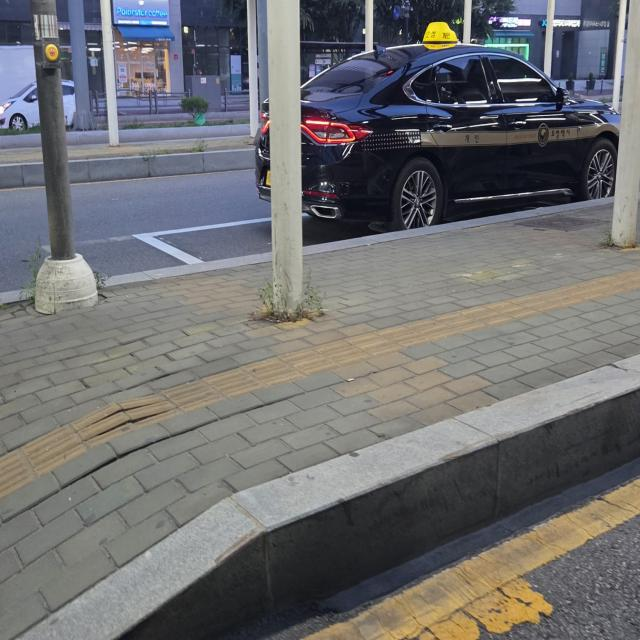car: (247, 21, 639, 252)
